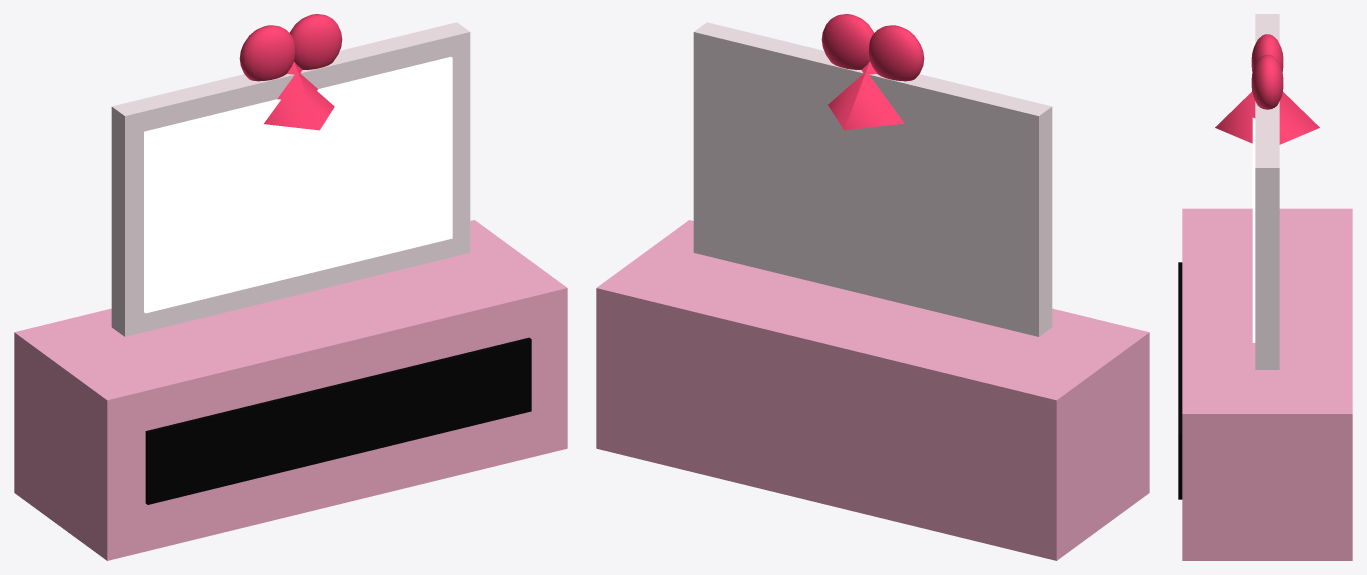
The model's file is tv_cute_1.glb.
The picture shows the model from 3 angles, left to right: view 1: azimuth 30°, elevation 25°; view 2: azimuth 150°, elevation 25°; view 3: azimuth 270°, elevation 25°; orthographic projection. The views are drawn at different scales.
Size of the model in its own units: 1.2 by 1.12 by 0.43.
